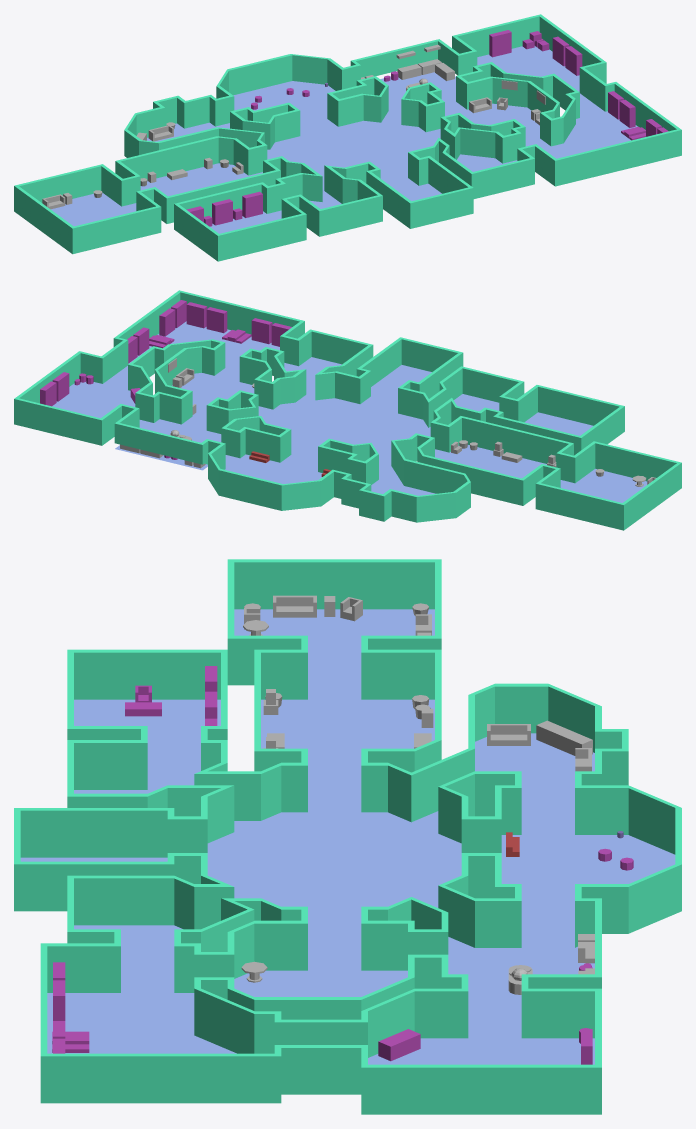
File: nightmare_map_v01.fbx
3 renders of one model, top to bottom at view 1: azimuth 30°, elevation 25°; view 2: azimuth 150°, elevation 25°; view 3: azimuth 270°, elevation 25°, orthographic. The views are drawn at different scales.
Visible parts, largest first — view 1: wall, plan, pPlane13, Kitchen, pPlane14, East_parior, Prop_StorageShelf_01.002, west_gallery, Prop_Bookshelf_Tall_01.009, Prop_Bookshelf_Tall_01.008, west_parlor, Prop_StorageShelf_01 (+1 smaller); view 2: wall, plan, pPlane13, pPlane14, Prop_Bookshelf_Tall_01.003, Prop_Bookshelf_Tall_01.006, Prop_Bookshelf_Tall_01.004, East_parior, Kitchen, Prop_Bookshelf_Tall_01.002; view 3: wall, plan, pPlane13, pPlane14, west_parlor, Room_B, Room_B_table, Kitchen, west_gallery, Prop_Table_Rect_01.
Boxes of the visible parts, x1,y1,x2,y2 form: wall: (14,14,681,261); plan: (51,46,637,233); pPlane13: (275,173,382,236); Kitchen: (361,44,454,90); pPlane14: (125,94,602,219); East_parior: (469,80,545,125); Prop_StorageShelf_01.002: (489,30,511,57); west_gallery: (140,157,228,186); Prop_Bookshelf_Tall_01.009: (212,199,232,225); Prop_Bookshelf_Tall_01.008: (242,191,262,217); west_parlor: (42,190,102,209); Prop_StorageShelf_01: (565,46,582,75); wall: (14,290,681,530); plan: (52,321,647,502); pPlane13: (439,366,524,422); pPlane14: (105,363,571,488); Prop_Bookshelf_Tall_01.003: (206,307,227,333); Prop_Bookshelf_Tall_01.006: (251,318,272,344); Prop_Bookshelf_Tall_01.004: (186,302,207,328); East_parior: (168,358,254,414); Kitchen: (120,430,205,468); Prop_Bookshelf_Tall_01.002: (159,308,175,336); wall: (14,559,681,1114); plan: (20,609,675,1064); pPlane13: (67,740,227,807); pPlane14: (121,685,574,1035); west_parlor: (243,595,431,635); Room_B: (487,724,591,771); Room_B_table: (536,720,592,755); Kitchen: (508,934,594,994); west_gallery: (265,693,433,748); Prop_Table_Rect_01: (378,1029,420,1061).
Bounding box in the file's own units: 9403 × 415 × 5224.
